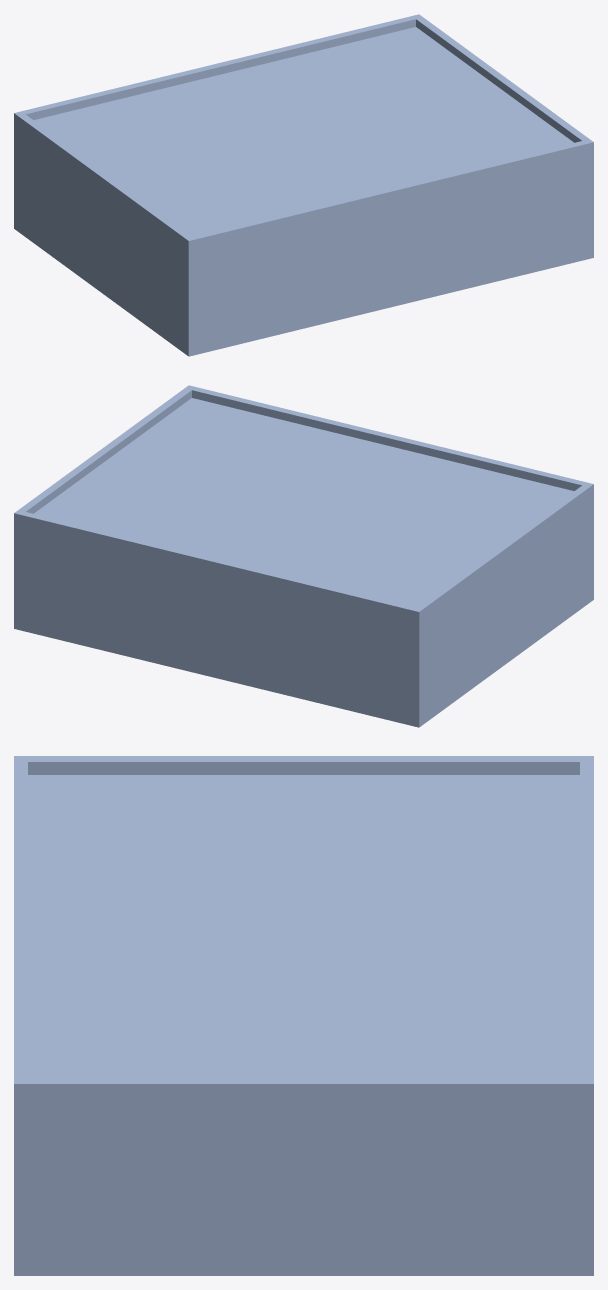
The model's file is Pre_ozonation_Contact_Tank.glb.
3 views of the same model, one above another, from view 1: azimuth 30°, elevation 25°; view 2: azimuth 150°, elevation 25°; view 3: azimuth 270°, elevation 25° (orthographic). The views are drawn at different scales.
Parts seen in each view (by area): view 1: Floor1; view 2: Floor1; view 3: Floor1.
Part boxes in pixels (<box>): Floor1: <box>14,14,593,356</box>; Floor1: <box>14,385,593,727</box>; Floor1: <box>14,756,593,1275</box>.
Size of the model in its own units: 22 by 6 by 16.44.
